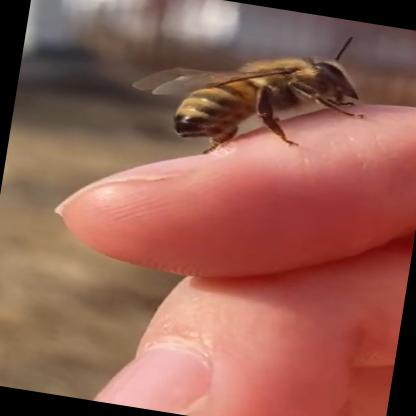bee: (116, 6, 413, 188)
